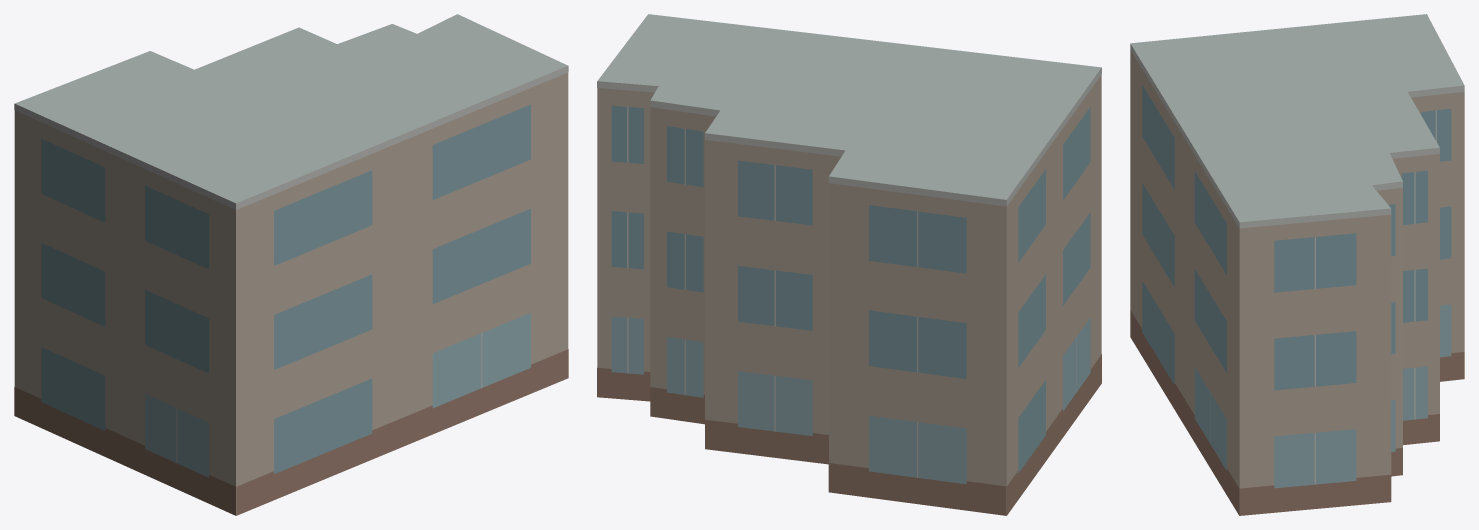
Rendered from survey-upis-32786510.glb.
3 views of the same model, side by side, from view 1: azimuth 30°, elevation 25°; view 2: azimuth 150°, elevation 25°; view 3: azimuth 270°, elevation 25° (orthographic). The views are drawn at different scales.
Visible parts, largest first — view 1: survey-upis-32786510.tmp; view 2: survey-upis-32786510.tmp; view 3: survey-upis-32786510.tmp.
Part boxes in pixels (x1,y1,x2,y2): survey-upis-32786510.tmp: [14, 14, 568, 515]; survey-upis-32786510.tmp: [597, 14, 1101, 515]; survey-upis-32786510.tmp: [1130, 14, 1464, 515].
Size of the model in its own units: 17.51 by 11.5 by 11.88.
